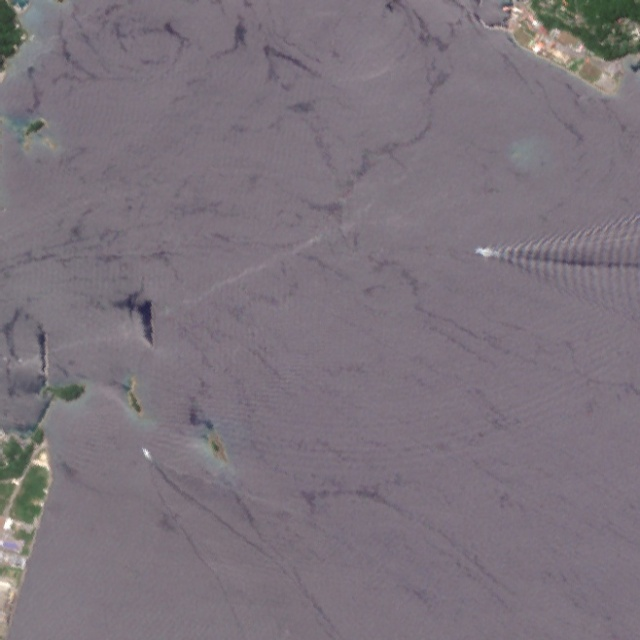wake: (467, 216, 619, 299)
